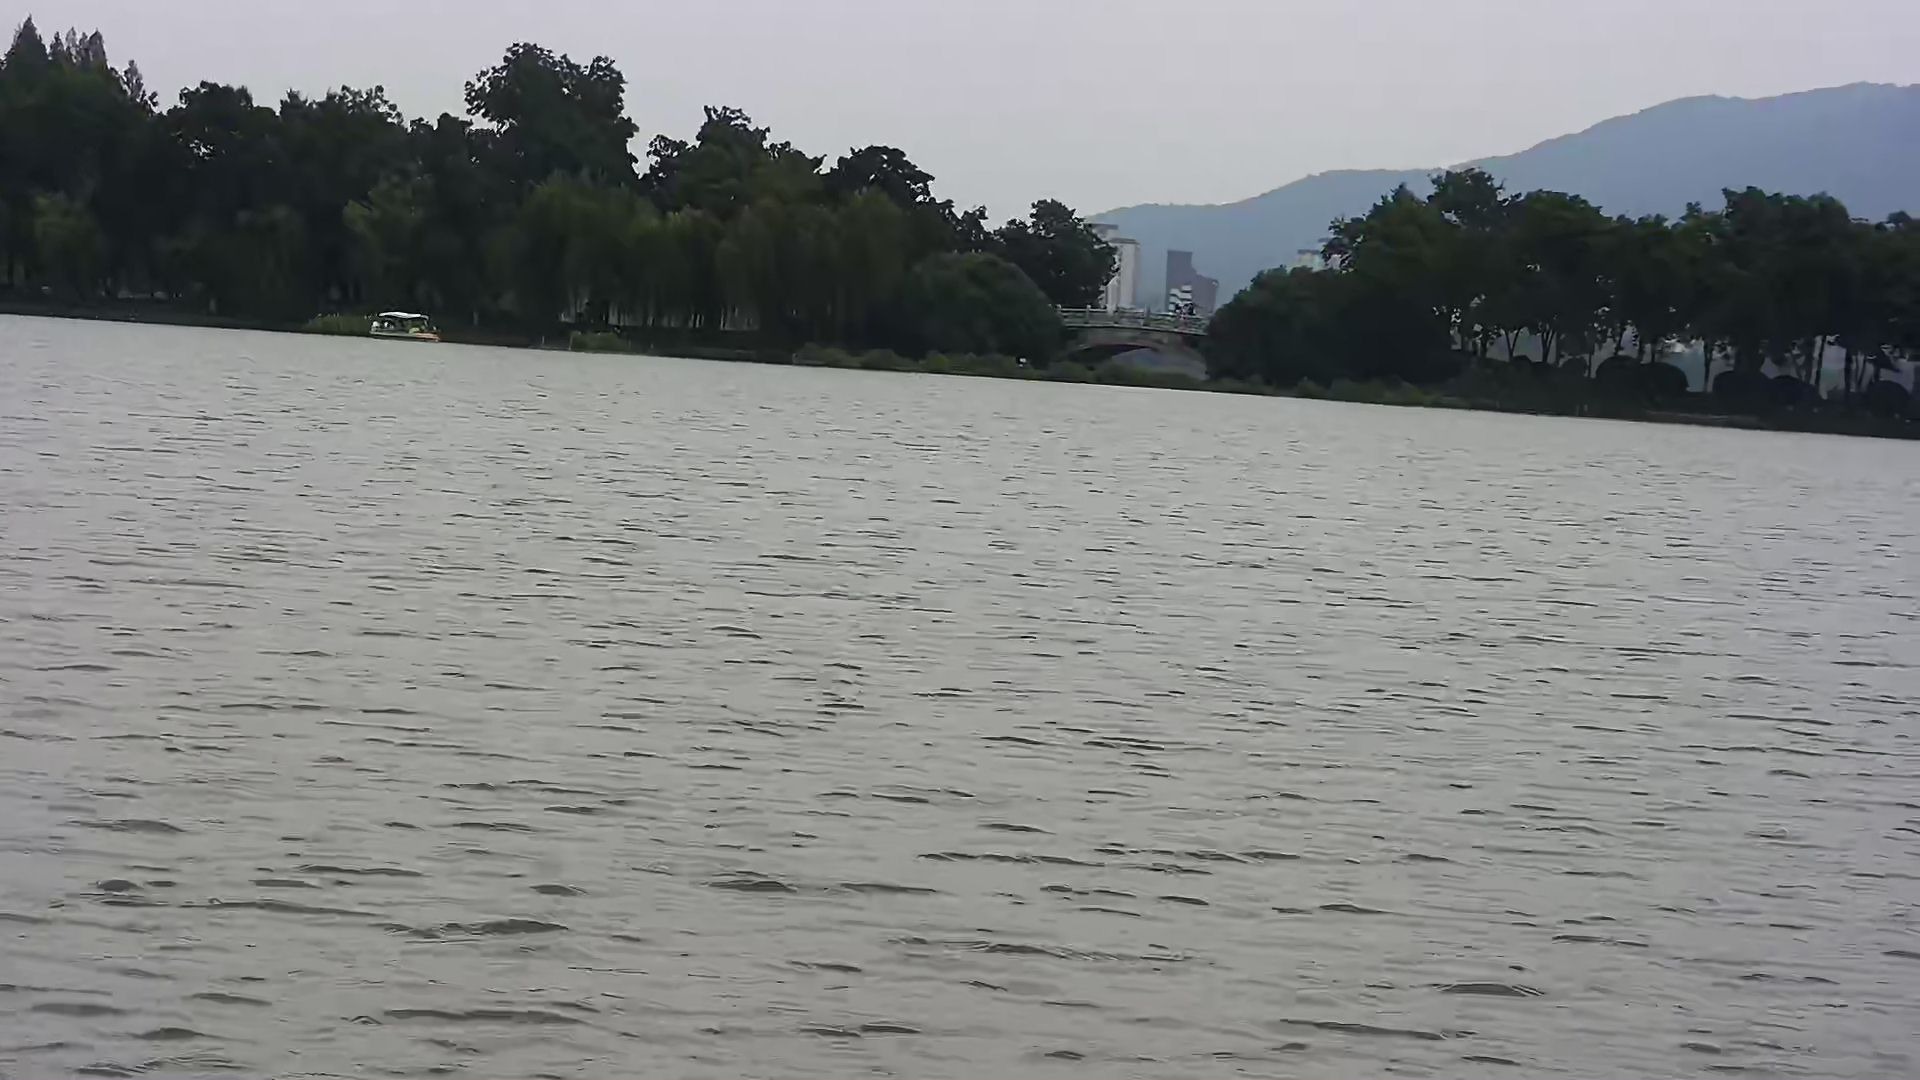boat: (367, 309, 442, 342)
bridge: (1054, 301, 1211, 386)
